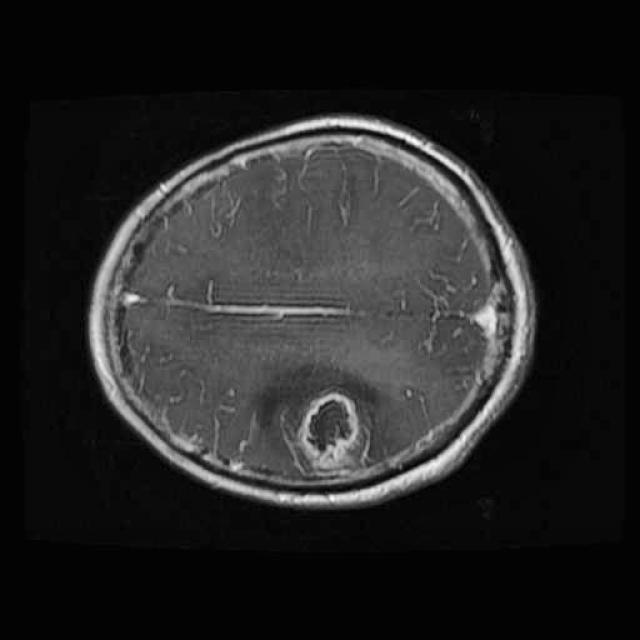Tumor: (290, 378, 374, 479)
